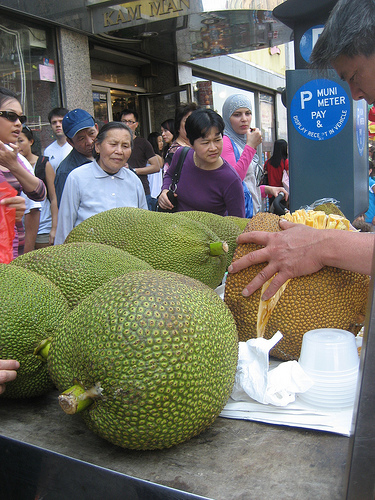jackfruit: (48, 270, 240, 450), (0, 262, 70, 396)
